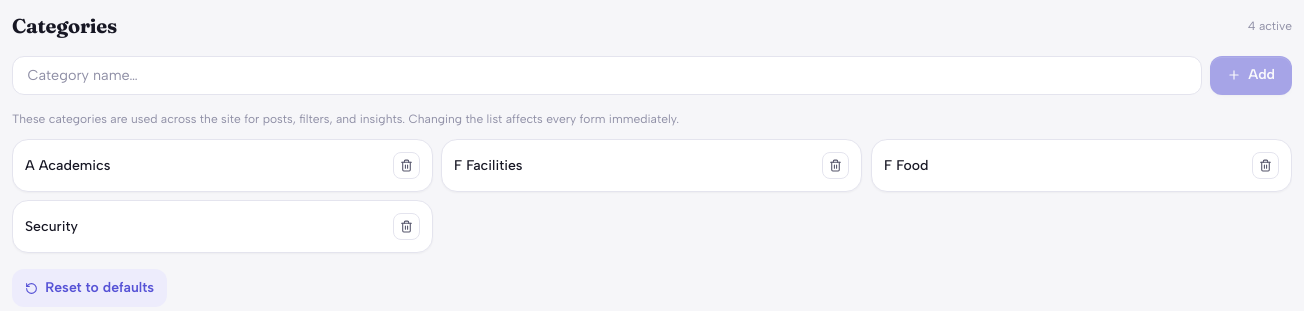
Test: Admin Categories › adds via the Enter key on the input
expect the text "A Academics" is shown: met, box [25,155,110,175]
Type "EnterCat" into the field with placeholder "Category name…" at (607, 75), box [12,56,1202,94]
Then press Enter
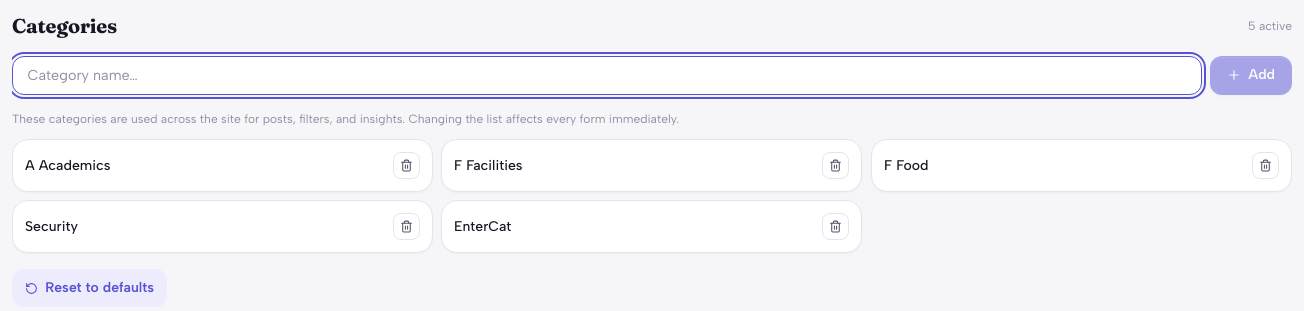
expect the text "EnterCat" is shown: met, box [454,216,512,236]
